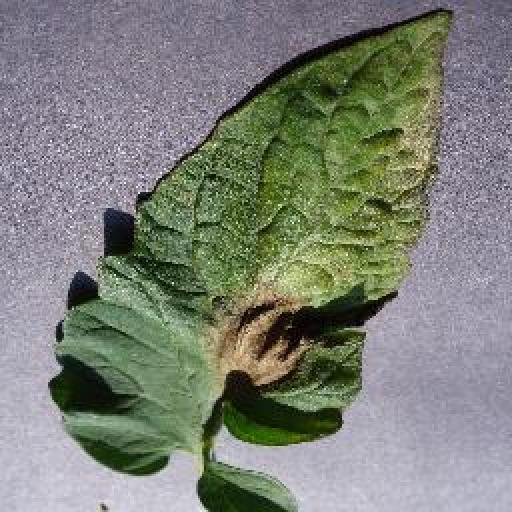Late Blight: (48, 5, 453, 479)
